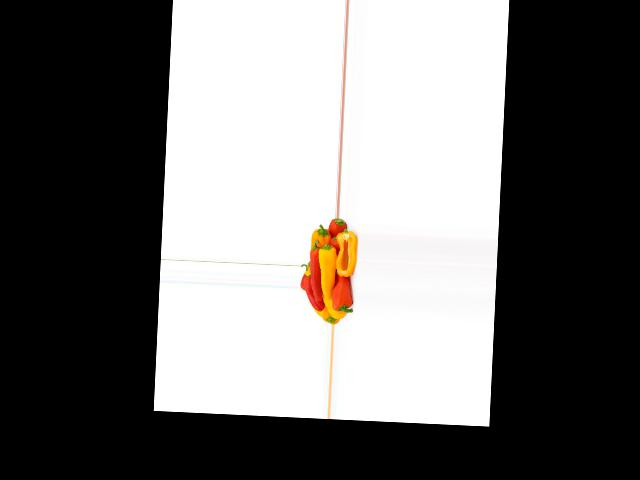bell_pepper: (324, 217, 346, 248)
